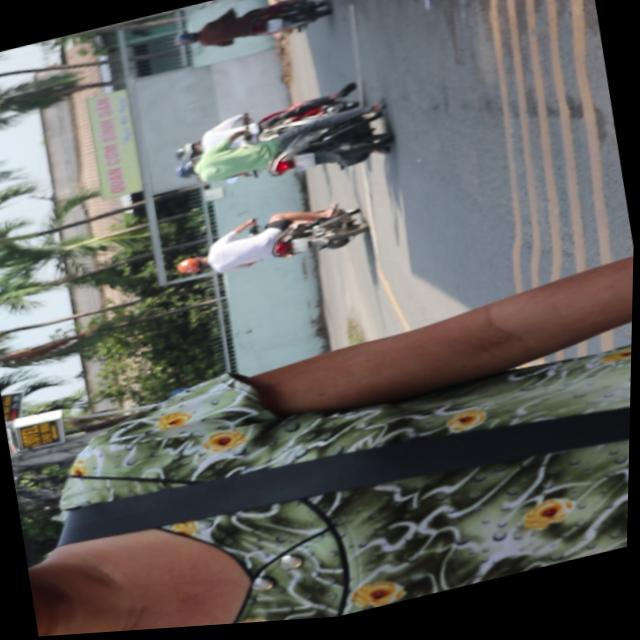licenseplate: (24, 402, 632, 638)
